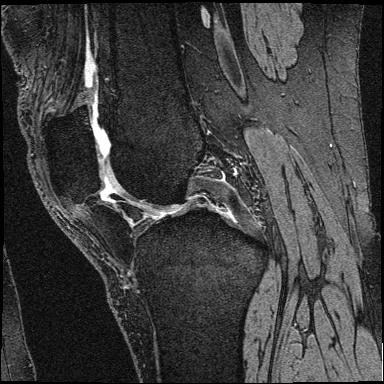SagKneeJointArea: (43, 104, 270, 292)
